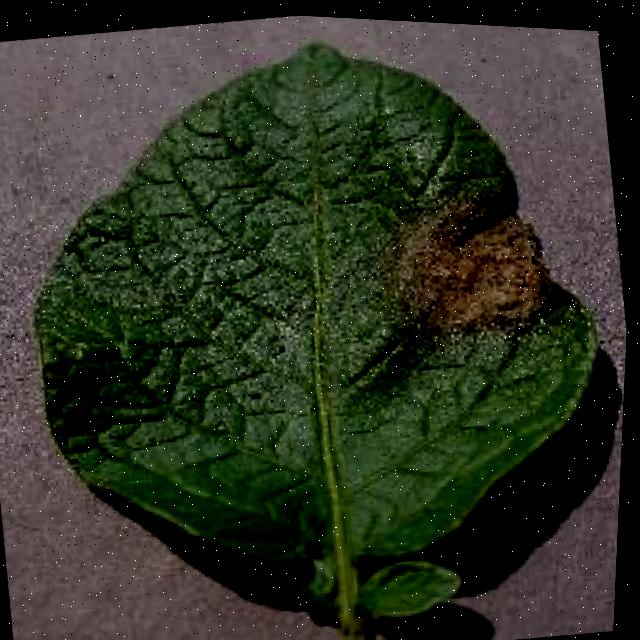Late_blight: (350, 152, 588, 363)
